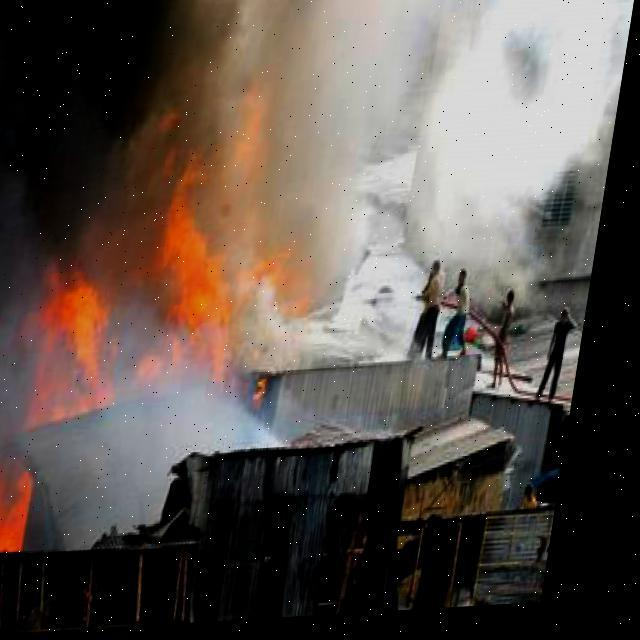Fire: (0, 100, 355, 558)
